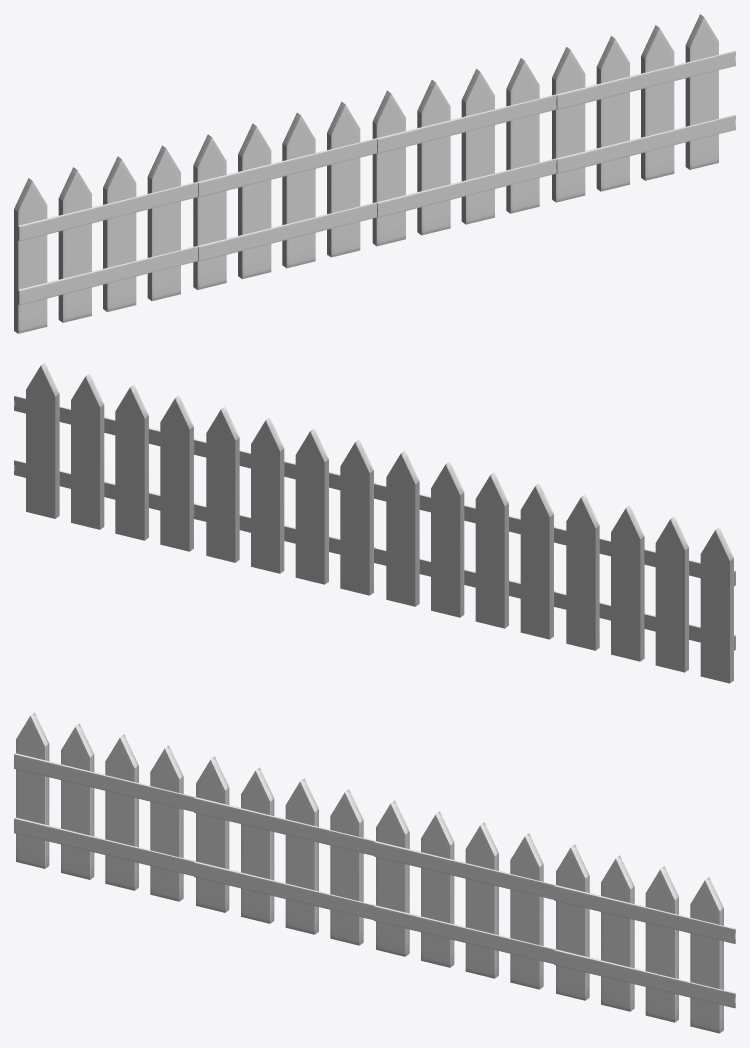
The model's file is fence.FBX.
3 renders of one model, top to bottom at view 1: azimuth 30°, elevation 25°; view 2: azimuth 150°, elevation 25°; view 3: azimuth 330°, elevation 25°, orthographic.
Visible parts, largest first — view 1: fence; view 2: fence; view 3: fence.
Part boxes in pixels (<box>): fence: <box>14,14,735,333</box>; fence: <box>14,362,735,683</box>; fence: <box>14,712,735,1033</box>.
Bounding box in the file's own units: 0.1016 × 0.00143 × 0.0202.
